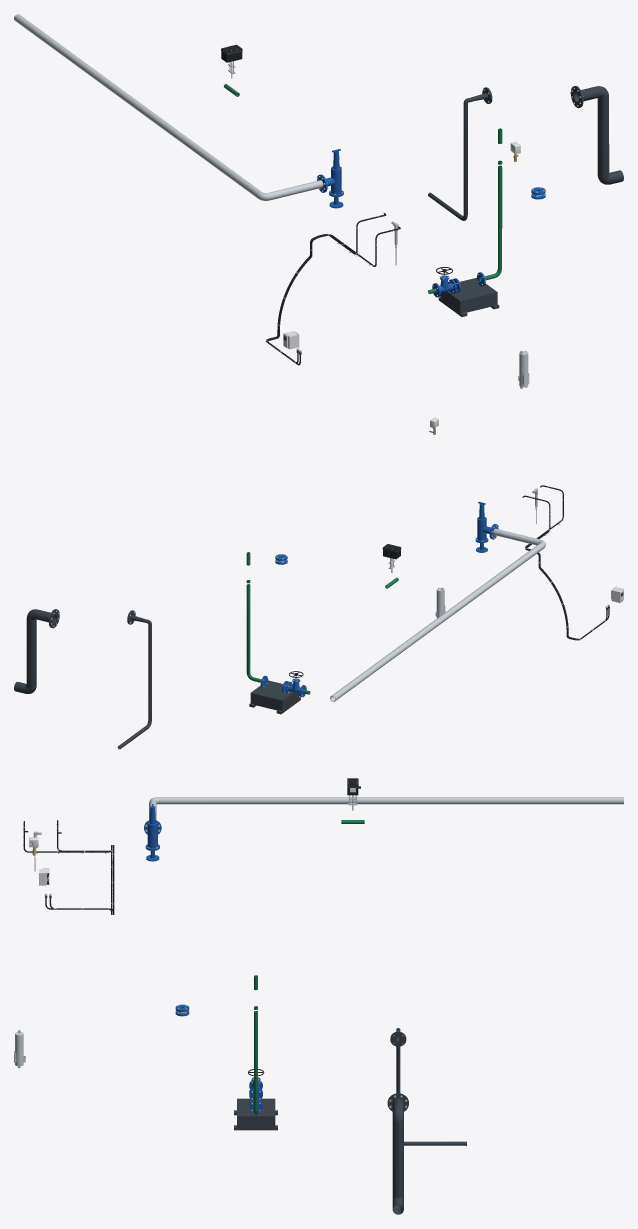
The picture shows the model from 3 angles, top to bottom: view 1: azimuth 30°, elevation 25°; view 2: azimuth 150°, elevation 25°; view 3: azimuth 270°, elevation 25°; orthographic projection. The views are drawn at different scales.
Parts seen in each view (by area): view 1: safety_vent_1 / steel, bdv_water_drain / dark, pump_branch_2 / dark, bottom_to_bdv / dark, pump_branch_2 / green, safety_1 / blue, wiring_lp200 / black; view 2: safety_vent_1 / steel, bdv_water_drain / dark, pump_branch_2 / dark, bottom_to_bdv / dark, pump_branch_2 / green, safety_1 / blue; view 3: safety_vent_1 / steel, bdv_water_drain / dark, pump_branch_2 / dark, bottom_to_bdv / dark.
Boxes of the visible parts, left/top/right/bottom form: safety_vent_1 / steel: left=14, top=14, right=323, bottom=200; bdv_water_drain / dark: left=570, top=86, right=623, bottom=184; pump_branch_2 / dark: left=438, top=277, right=499, bottom=316; bottom_to_bdv / dark: left=428, top=87, right=492, bottom=220; pump_branch_2 / green: left=428, top=128, right=502, bottom=293; safety_1 / blue: left=317, top=149, right=343, bottom=197; wiring_lp200 / black: left=267, top=226, right=400, bottom=365; safety_vent_1 / steel: left=330, top=528, right=545, bottom=701; bdv_water_drain / dark: left=14, top=609, right=59, bottom=693; pump_branch_2 / dark: left=249, top=680, right=300, bottom=714; bottom_to_bdv / dark: left=117, top=610, right=151, bottom=749; pump_branch_2 / green: left=246, top=552, right=310, bottom=694; safety_1 / blue: left=475, top=502, right=498, bottom=543; safety_vent_1 / steel: left=149, top=797, right=623, bottom=820; bdv_water_drain / dark: left=387, top=1093, right=408, bottom=1214; pump_branch_2 / dark: left=234, top=1098, right=277, bottom=1130; bottom_to_bdv / dark: left=390, top=1028, right=466, bottom=1145.
Size of the model in its own units: 5.86 by 2.85 by 6.22.
